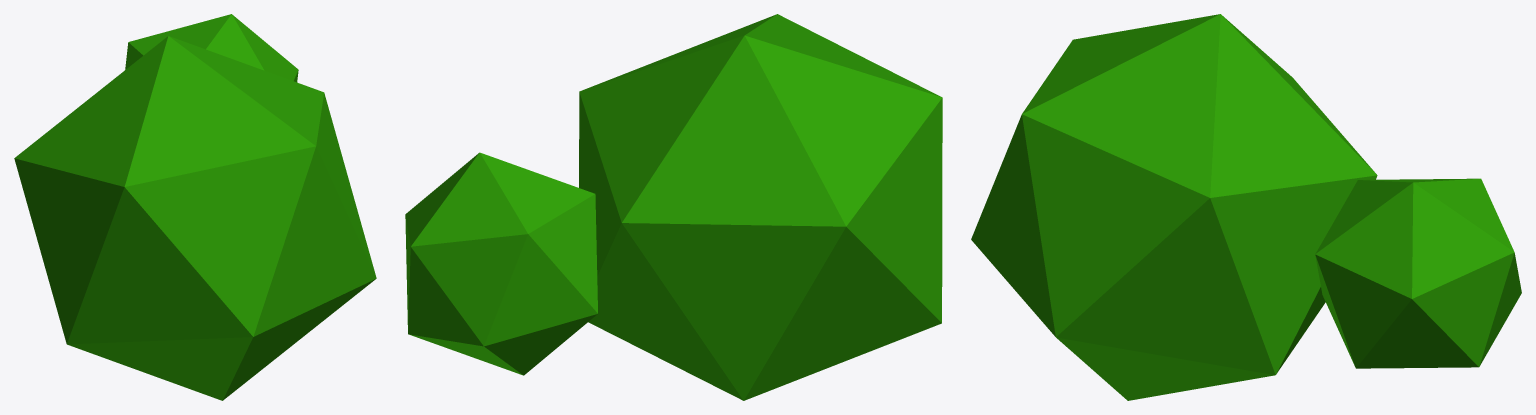
The model's file is ARBUSTO #2.fbx.
The picture shows the model from 3 angles, left to right: view 1: azimuth 30°, elevation 25°; view 2: azimuth 150°, elevation 25°; view 3: azimuth 270°, elevation 25°; orthographic projection. The views are drawn at different scales.
Visible parts, largest first — view 1: Folha.004, Folha.002; view 2: Folha.004, Folha.002; view 3: Folha.004, Folha.002.
Part boxes in pixels (bbox=[...]): Folha.004: bbox=[14, 36, 376, 400]; Folha.002: bbox=[125, 14, 298, 82]; Folha.004: bbox=[579, 14, 942, 400]; Folha.002: bbox=[405, 152, 597, 375]; Folha.004: bbox=[971, 14, 1377, 400]; Folha.002: bbox=[1315, 178, 1521, 368].
Bounding box in the file's own units: 228 × 209 × 274.
